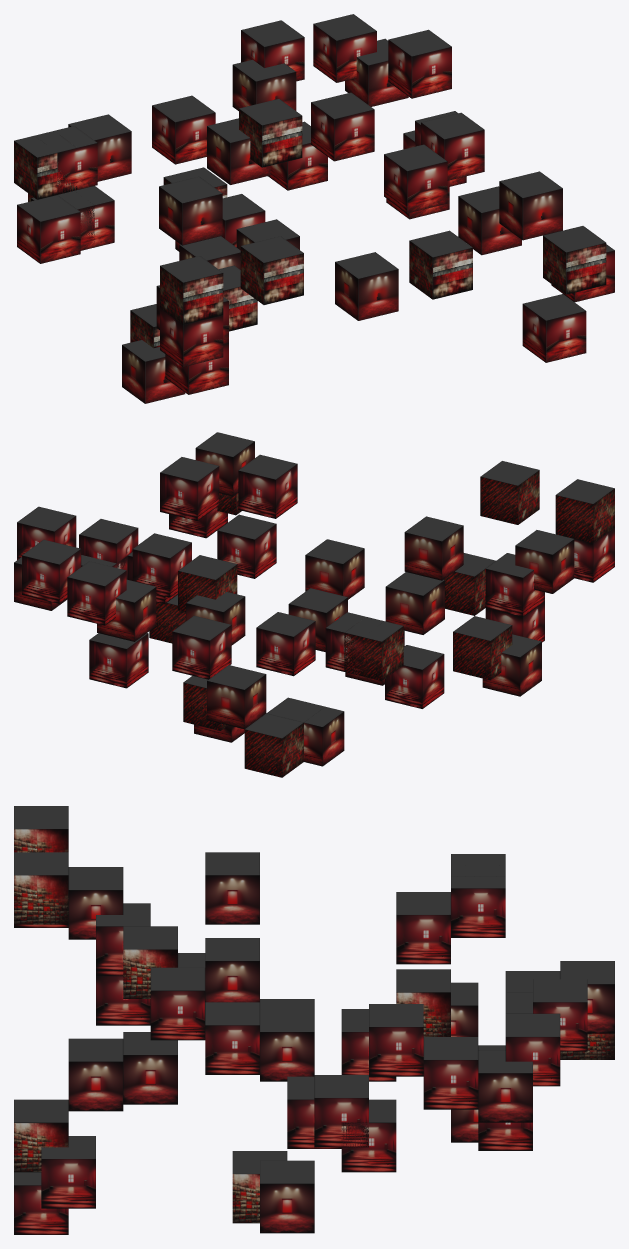
Rendered from full_room_0_v1.fbx.
The picture shows the model from 3 angles, top to bottom: view 1: azimuth 30°, elevation 25°; view 2: azimuth 150°, elevation 25°; view 3: azimuth 270°, elevation 25°; orthographic projection. The views are drawn at different scales.
Visible parts, largest first — view 1: MyCube.036, MyCube.013, MyCube.021, MyCube.023, MyCube.030, MyCube.032, MyCube.009, MyCube.018, MyCube.019, MyCube.024, MyCube.043, MyCube.007 (+24 smaller); view 2: MyCube.009, MyCube.017, MyCube.019, MyCube.021, MyCube.030, MyCube.034, MyCube.037, MyCube, MyCube.006, MyCube.038, MyCube.042, MyCube.036 (+28 smaller); view 3: MyCube.018, MyCube.021, MyCube.024, MyCube.040, MyCube.009, MyCube.013, MyCube.019, MyCube.023, MyCube.037, MyCube.022, MyCube.016, MyCube.043 (+26 smaller).
Part boxes in pixels (<box>): MyCube.036: <box>522,294,586,362</box>; MyCube.013: <box>311,92,374,161</box>; MyCube.021: <box>384,144,447,213</box>; MyCube.023: <box>17,195,80,263</box>; MyCube.030: <box>160,256,223,324</box>; MyCube.032: <box>409,230,472,299</box>; MyCube.009: <box>240,236,303,304</box>; MyCube.018: <box>499,171,562,240</box>; MyCube.019: <box>159,176,222,245</box>; MyCube.024: <box>388,29,451,98</box>; MyCube.043: <box>335,252,398,320</box>; MyCube.007: <box>543,226,606,294</box>; MyCube.009: <box>480,461,539,524</box>; MyCube.017: <box>207,665,266,729</box>; MyCube.019: <box>404,516,463,580</box>; MyCube.021: <box>238,454,297,518</box>; MyCube.030: <box>555,479,614,543</box>; MyCube.034: <box>244,713,303,777</box>; MyCube.037: <box>160,457,219,520</box>; MyCube: <box>256,612,315,676</box>; MyCube.006: <box>344,617,403,680</box>; MyCube.038: <box>172,615,231,679</box>; MyCube.042: <box>385,572,444,634</box>; MyCube.036: <box>217,514,276,578</box>; MyCube.018: <box>68,1038,123,1111</box>; MyCube.021: <box>150,967,205,1040</box>; MyCube.024: <box>423,1037,478,1109</box>; MyCube.040: <box>260,1160,314,1233</box>; MyCube.009: <box>14,852,68,924</box>; MyCube.013: <box>369,1004,423,1076</box>; MyCube.019: <box>205,852,259,924</box>; MyCube.023: <box>396,892,450,964</box>; MyCube.037: <box>205,1002,259,1074</box>; MyCube.022: <box>314,1075,368,1147</box>; MyCube.016: <box>260,1009,314,1081</box>; MyCube.043: <box>123,1032,177,1104</box>.
Bounding box in the file's own units: 2200 × 800 × 2200.
